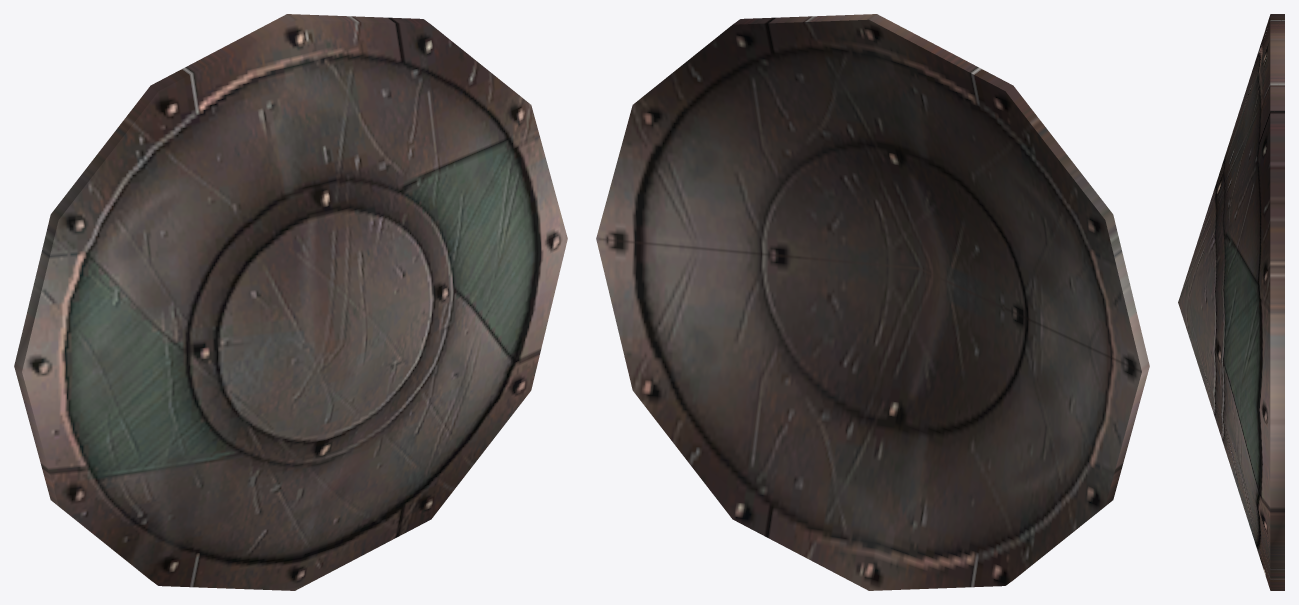
The picture shows the model from 3 angles, left to right: view 1: azimuth 30°, elevation 25°; view 2: azimuth 150°, elevation 25°; view 3: azimuth 270°, elevation 25°; orthographic projection. The views are drawn at different scales.
Visible parts, largest first — view 1: it10669; view 2: it10669; view 3: it10669.
Part boxes in pixels (bbox=[...]): it10669: bbox=[14, 14, 567, 590]; it10669: bbox=[596, 14, 1149, 590]; it10669: bbox=[1178, 14, 1284, 590].
Bounding box in the file's own units: 1.99 × 1.99 × 0.3667.
1 material, 1 textured.
